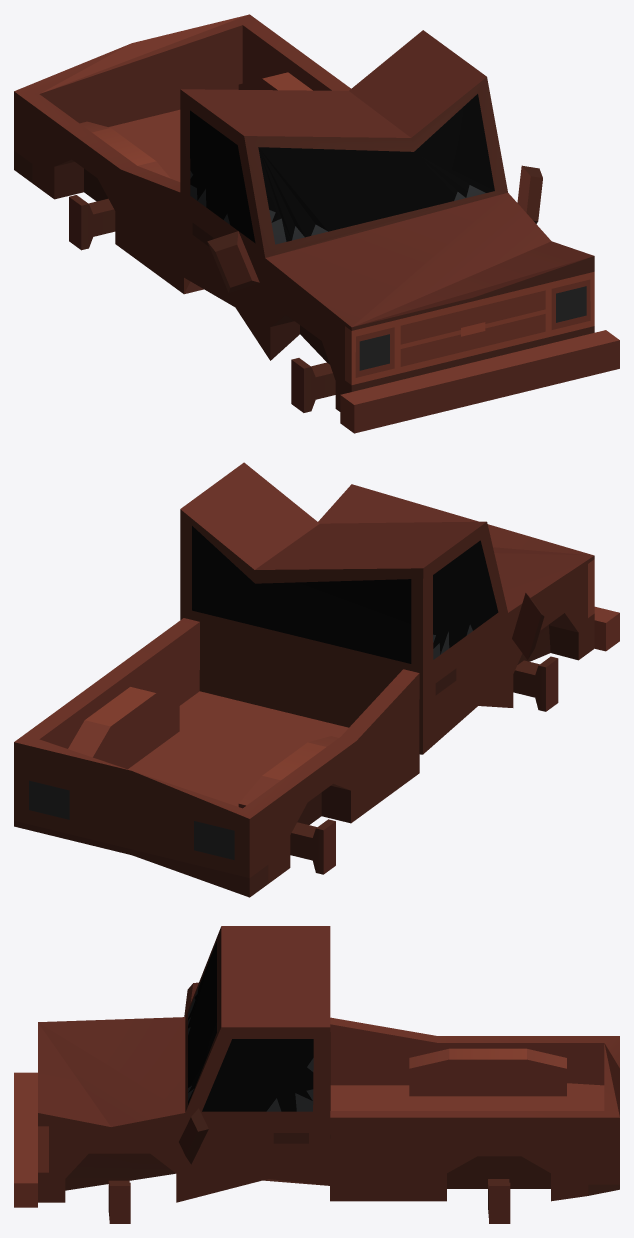
File: SA_Prop_BurntBrown_Ute_01.glb
3 renders of one model, top to bottom at view 1: azimuth 30°, elevation 25°; view 2: azimuth 150°, elevation 25°; view 3: azimuth 270°, elevation 25°, orthographic. The views are drawn at different scales.
Visible parts, largest first — view 1: SA_Prop_BurntBrown_Ute_01; view 2: SA_Prop_BurntBrown_Ute_01; view 3: SA_Prop_BurntBrown_Ute_01.
Part boxes in pixels (x1=…): SA_Prop_BurntBrown_Ute_01: x1=14, y1=14, x2=619, y2=433; SA_Prop_BurntBrown_Ute_01: x1=14, y1=462, x2=619, y2=897; SA_Prop_BurntBrown_Ute_01: x1=14, y1=926, x2=619, y2=1223.
Bounding box in the file's own units: 1.61 × 1.05 × 2.96.
Materials: 1 (1 with a texture image).
